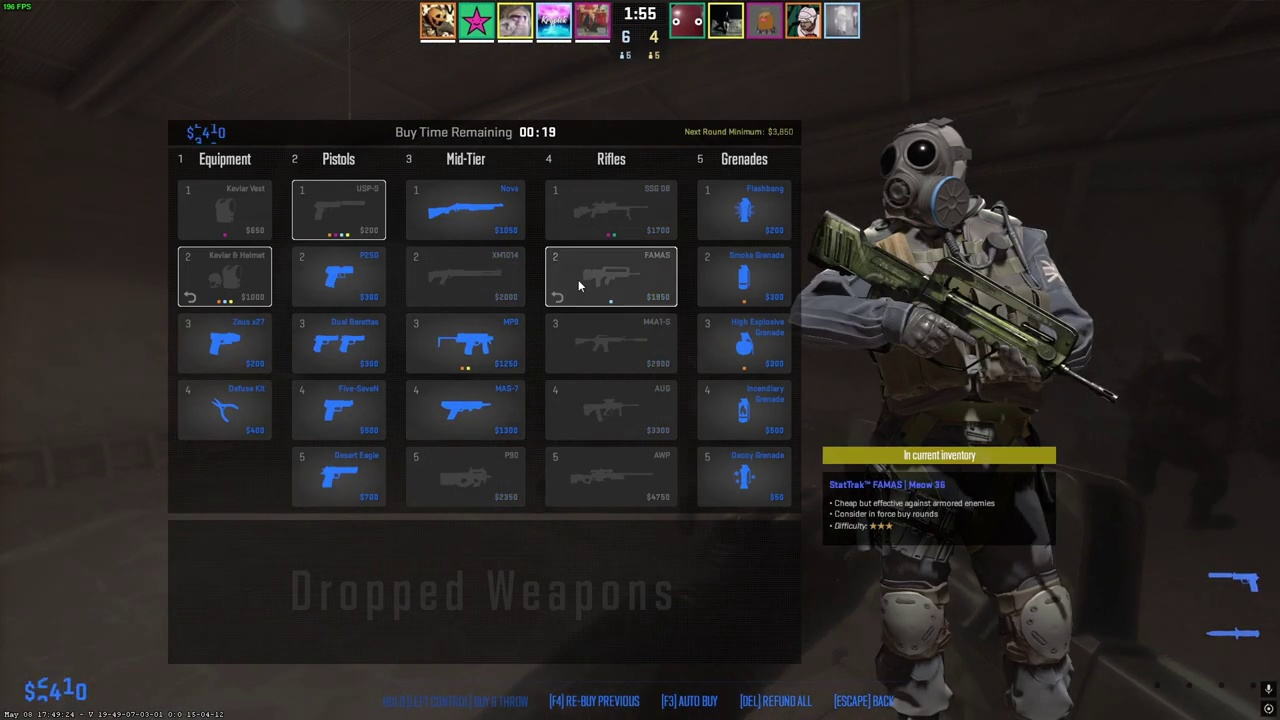CT: (857, 123, 1078, 720)
